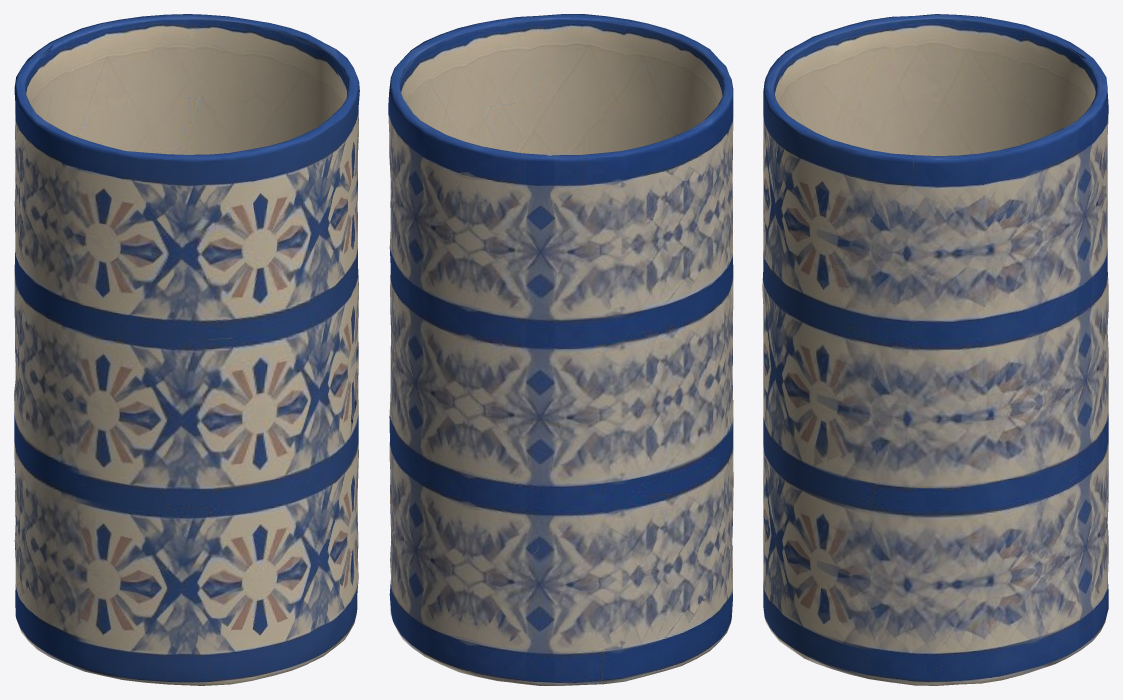
The model's file is qr-vase.glb.
The picture shows the model from 3 angles, left to right: view 1: azimuth 30°, elevation 25°; view 2: azimuth 150°, elevation 25°; view 3: azimuth 270°, elevation 25°; orthographic projection.
Visible parts, largest first — view 1: mesh_node; view 2: mesh_node; view 3: mesh_node.
Part boxes in pixels (box(x1,y1,x2,y2)): mesh_node: box(14, 14, 359, 685); mesh_node: box(388, 14, 733, 685); mesh_node: box(762, 14, 1108, 685).
Bounding box in the file's own units: 1.2 × 2 × 1.19.
1 material, 1 textured.
